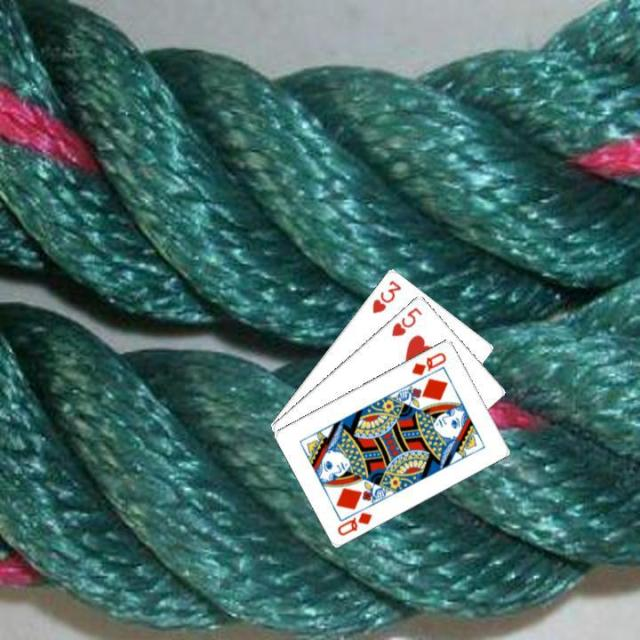3H: (368, 276, 404, 314)
5H: (388, 303, 424, 338)
QD: (408, 347, 448, 377), (334, 507, 374, 537)
